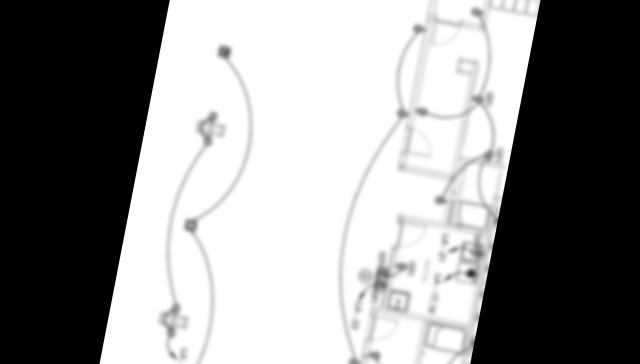door: (397, 219, 429, 255), (406, 125, 437, 161), (369, 313, 403, 345)
double door: (430, 16, 463, 53)
